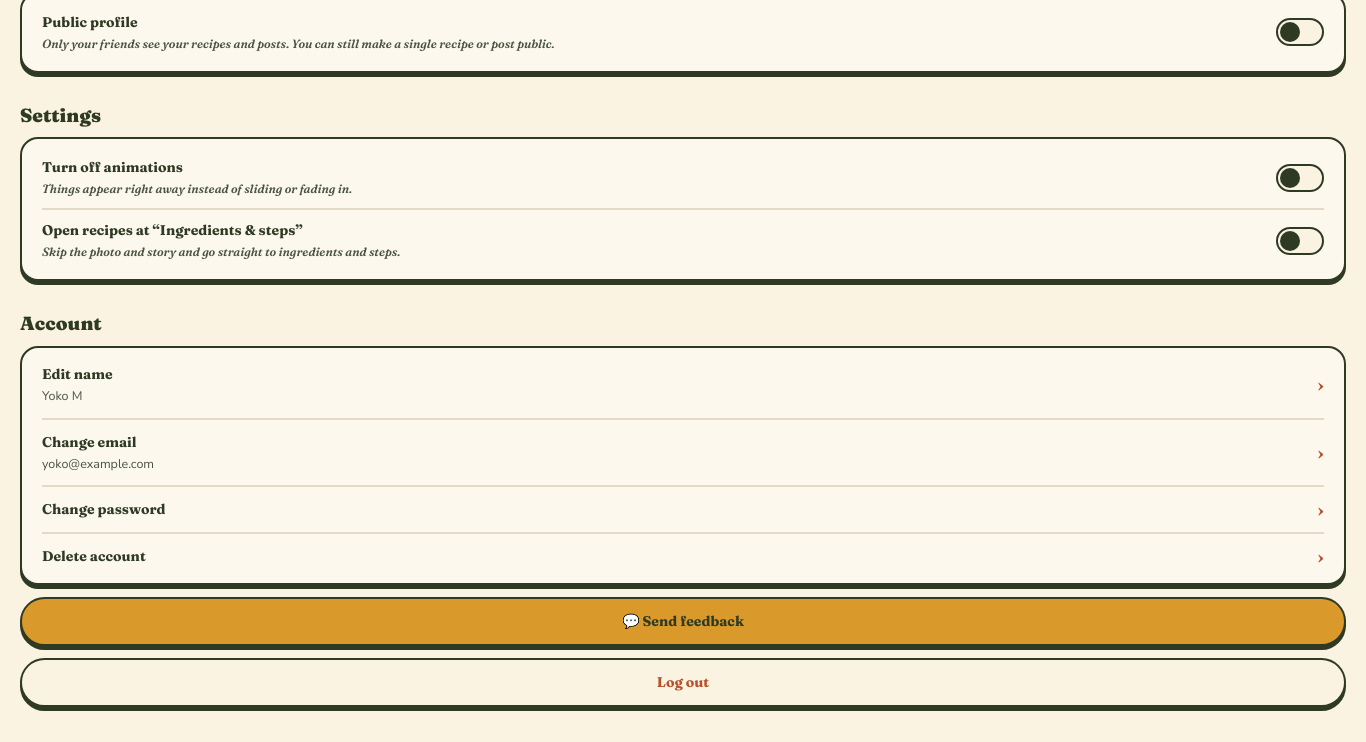
Test case: Profile account editing › sends the current password when changing email
The width and height of the screenshot is (1366, 742).
(page scrolled)
Click the button "Change email yoko@example.com ›" at [89, 442], box [42, 420, 1324, 485]
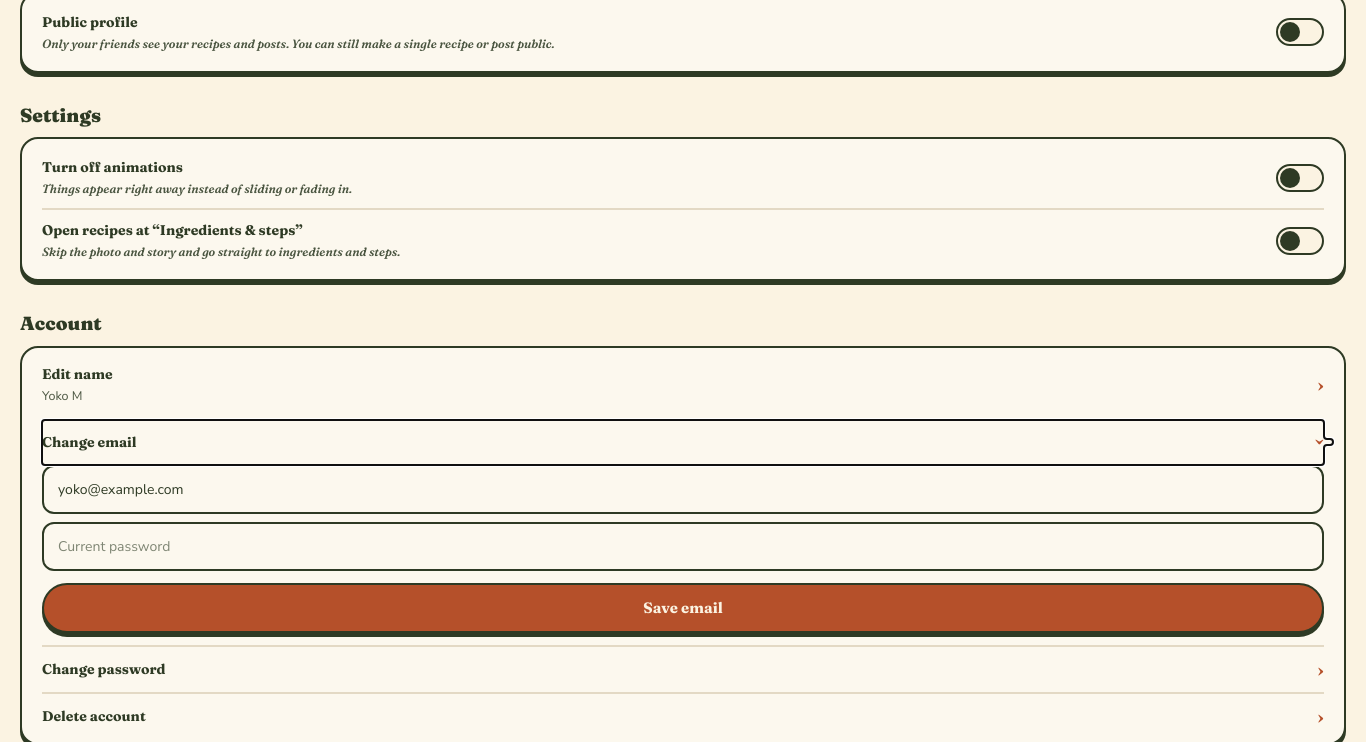
Replace the text in the field named "New email" with "new@example.com" at [683, 489], box [42, 465, 1324, 514]
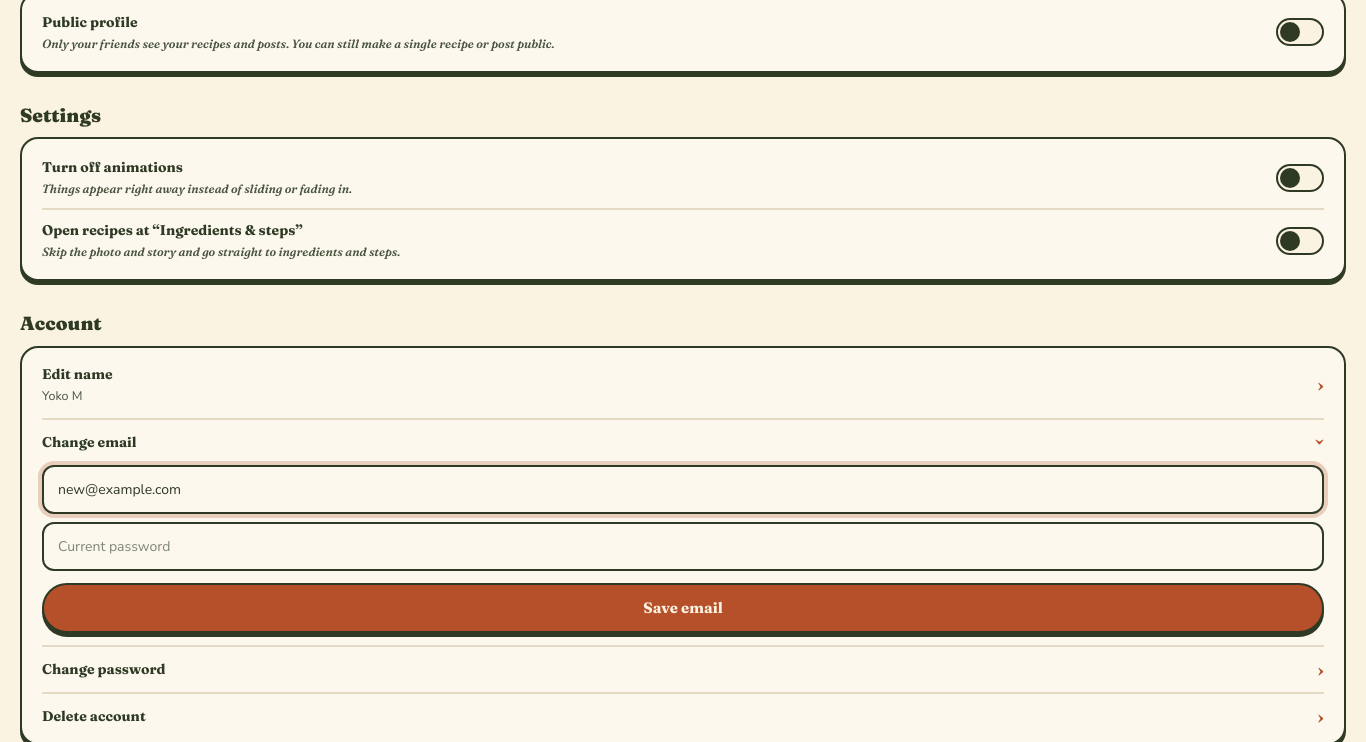
Type "password123" into the password field labelled "Current password" at [683, 546], box [42, 522, 1324, 571]
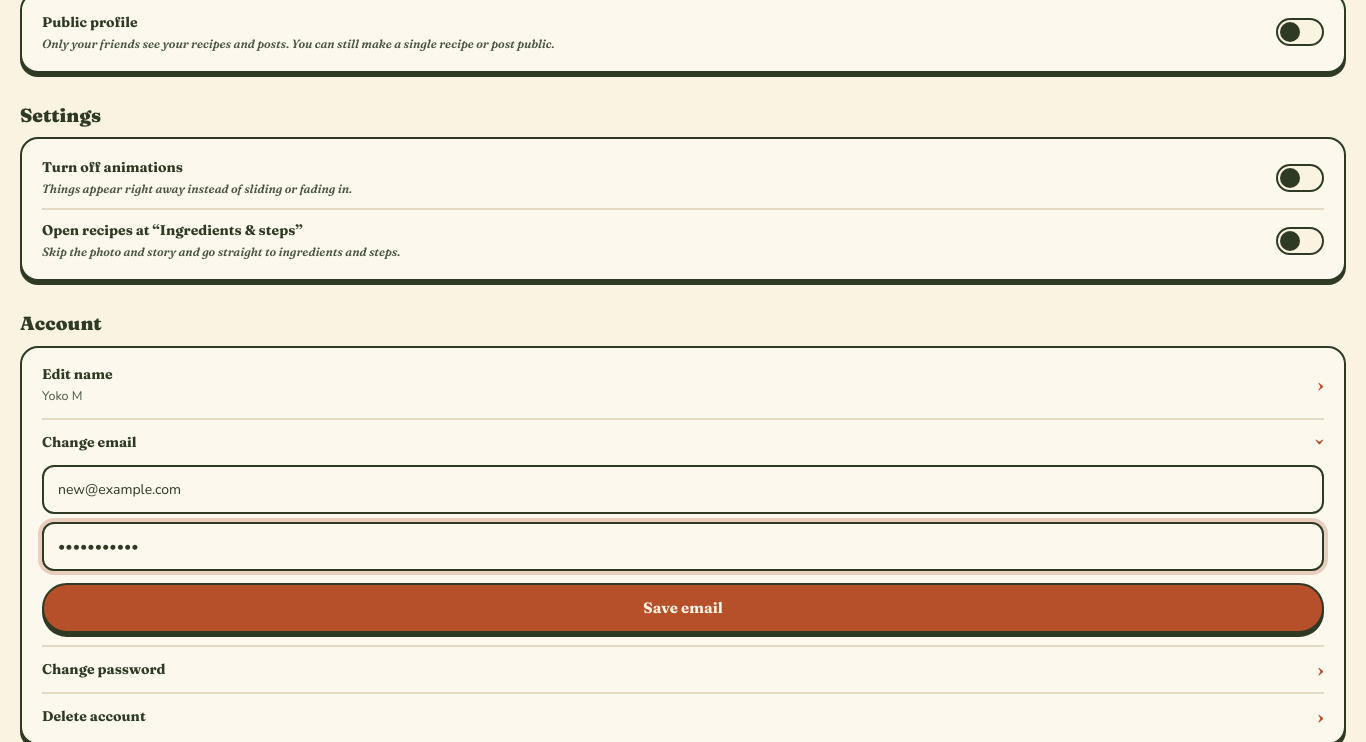
Click the button "Save email" at [683, 608], box [42, 583, 1324, 633]
(page scrolled)
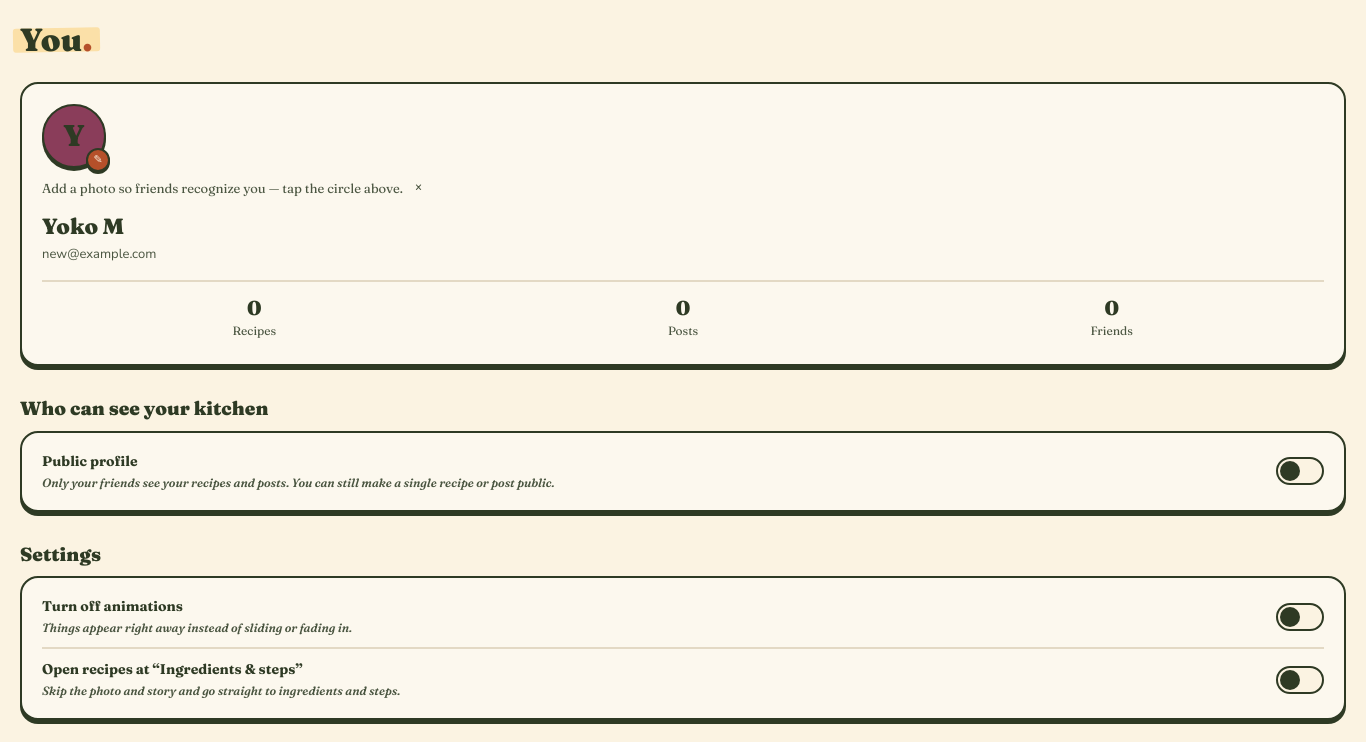
Now the text "new@example.com" is shown, box [42, 245, 156, 263]
